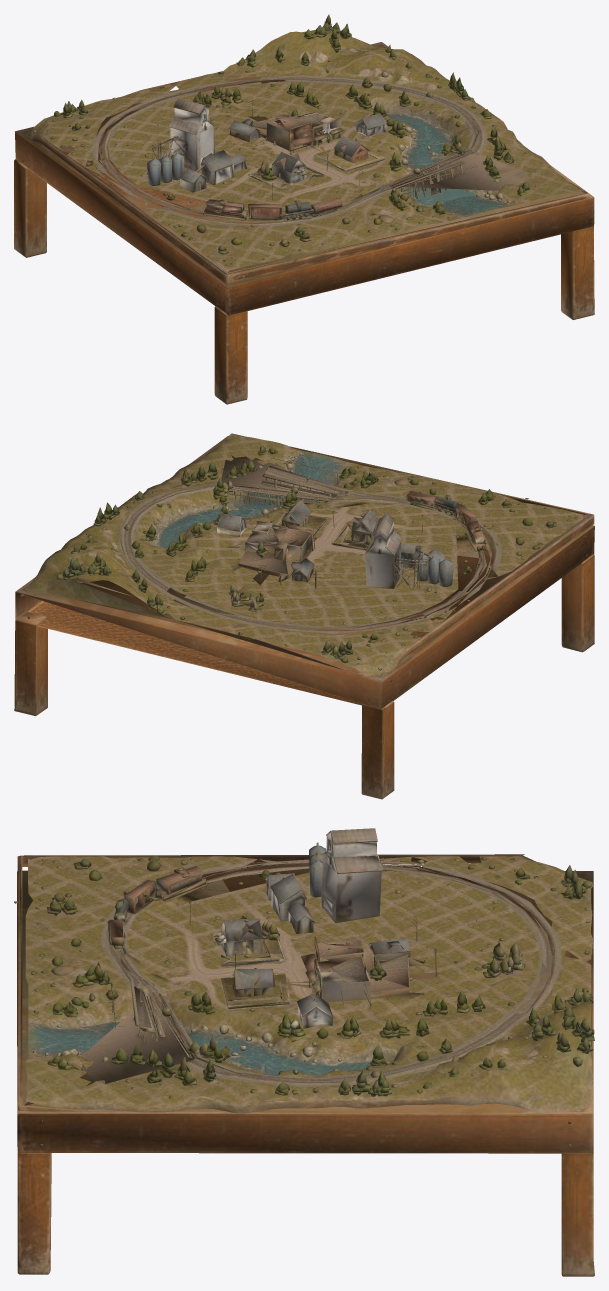
File: skyways-d-hb-diorama.glb
The picture shows the model from 3 angles, top to bottom: view 1: azimuth 30°, elevation 25°; view 2: azimuth 150°, elevation 25°; view 3: azimuth 270°, elevation 25°; orthographic projection. The views are drawn at different scales.
Visible parts, largest first — view 1: skyways-d-hb-diorama; view 2: skyways-d-hb-diorama; view 3: skyways-d-hb-diorama.
Part boxes in pixels (box(x1,y1,x2,y2)): skyways-d-hb-diorama: box(14, 14, 594, 404); skyways-d-hb-diorama: box(14, 433, 594, 799); skyways-d-hb-diorama: box(14, 828, 594, 1276).
Size of the model in its own units: 3 by 1.51 by 3.01.
1 material, 1 textured.
